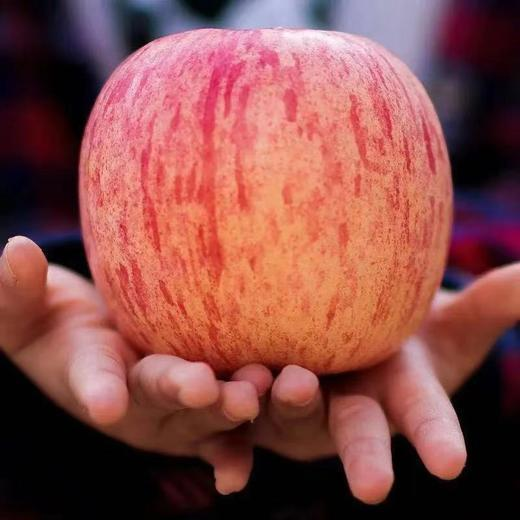apple: (81, 23, 451, 378)
